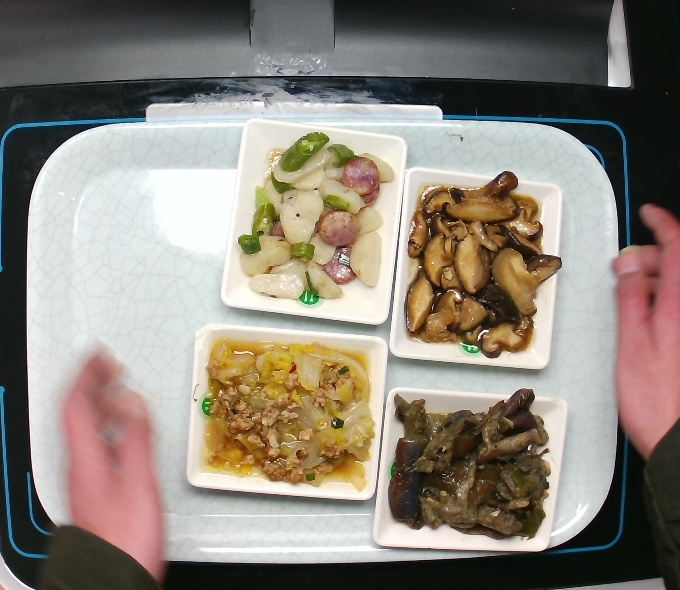wcq-MaTiGuo: (236, 132, 398, 303)
wcq-MoGu: (401, 184, 543, 360)
wcq-QieZi: (384, 384, 553, 539)
wcq-RouMoBaiCai: (202, 341, 374, 488)
